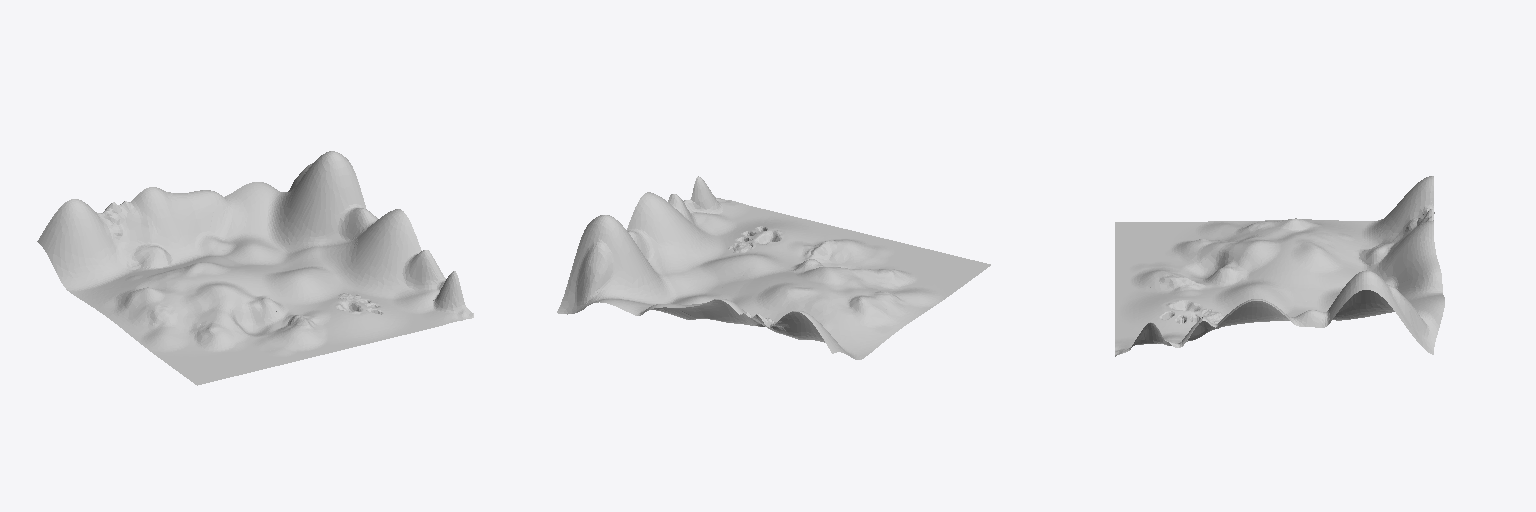
Rendered from KociaLapka1.obj.
3 views of the same model, side by side, from view 1: azimuth 30°, elevation 25°; view 2: azimuth 150°, elevation 25°; view 3: azimuth 270°, elevation 25° (orthographic).
Parts seen in each view (by area): view 1: Plane_Plane.001; view 2: Plane_Plane.001; view 3: Plane_Plane.001.
Boxes of the visible parts, box(x1,y1,x2,y2) form: Plane_Plane.001: box(37, 151, 473, 385); Plane_Plane.001: box(557, 176, 990, 359); Plane_Plane.001: box(1115, 176, 1444, 356).
Bounding box in the file's own units: 103 × 29.62 × 104.